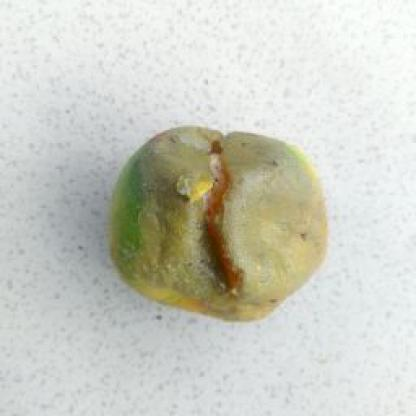orange_rotten: (106, 122, 330, 322)
